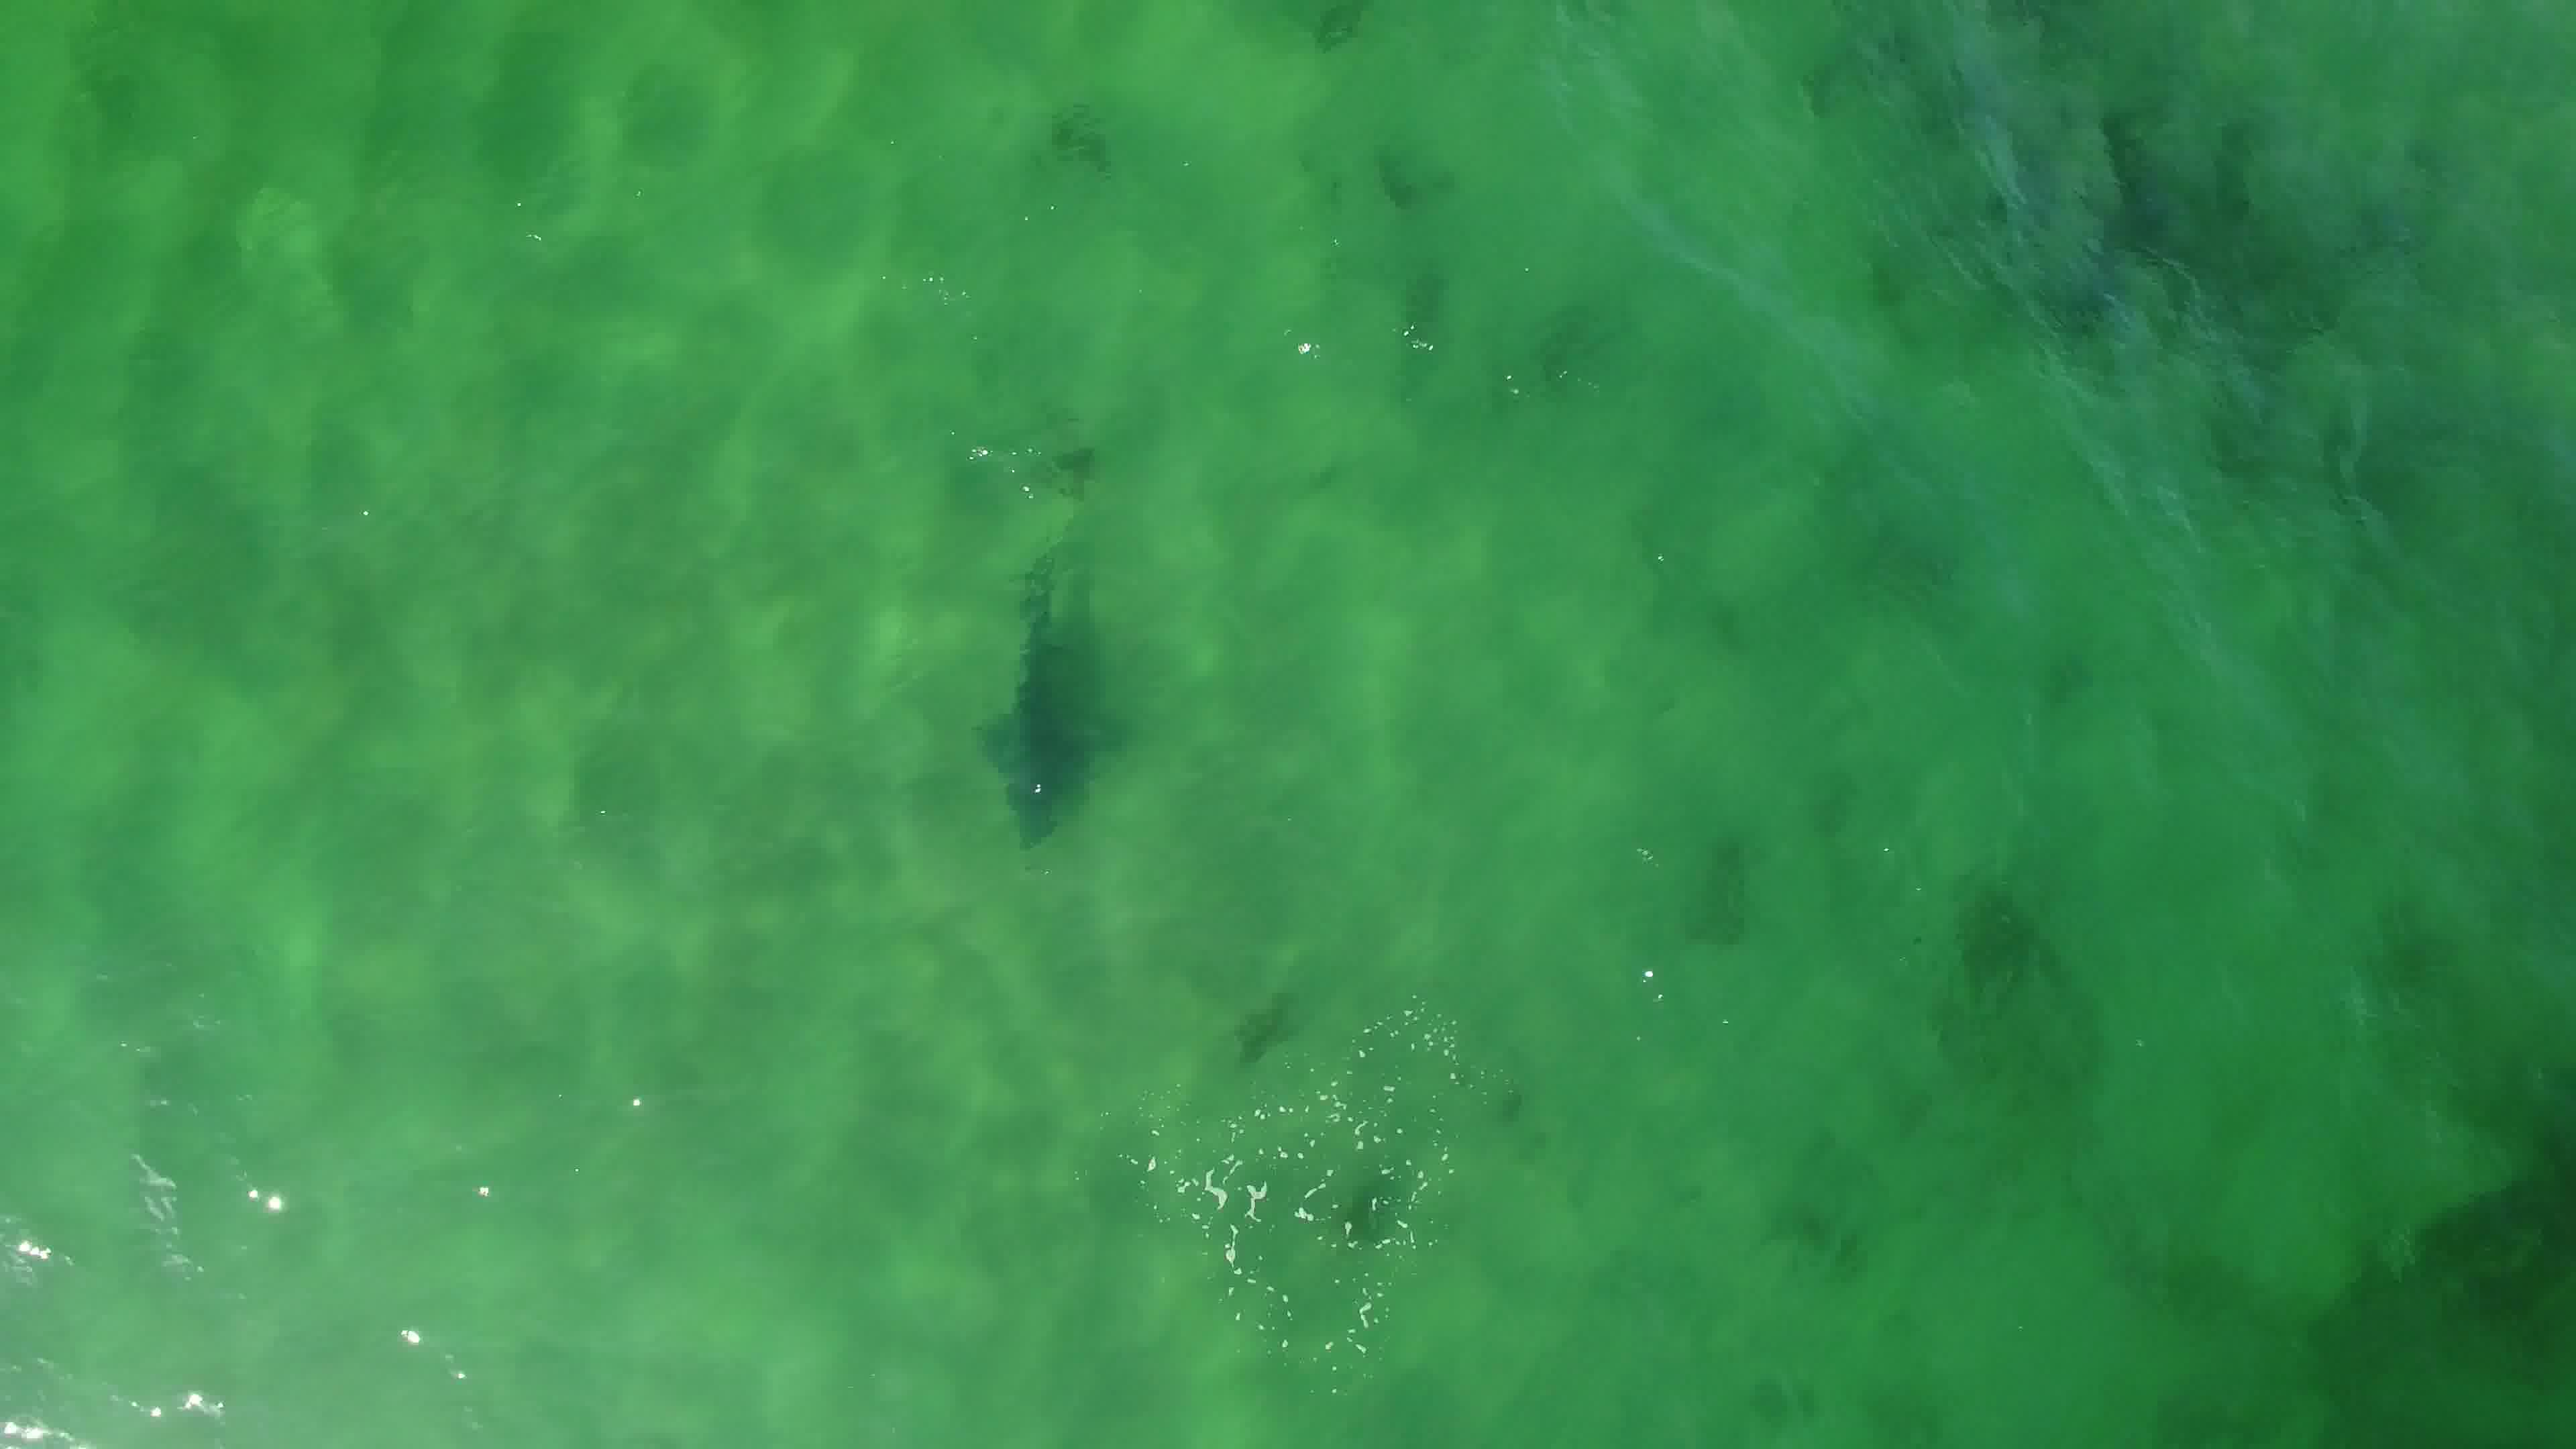shark: (955, 563, 1122, 851)
